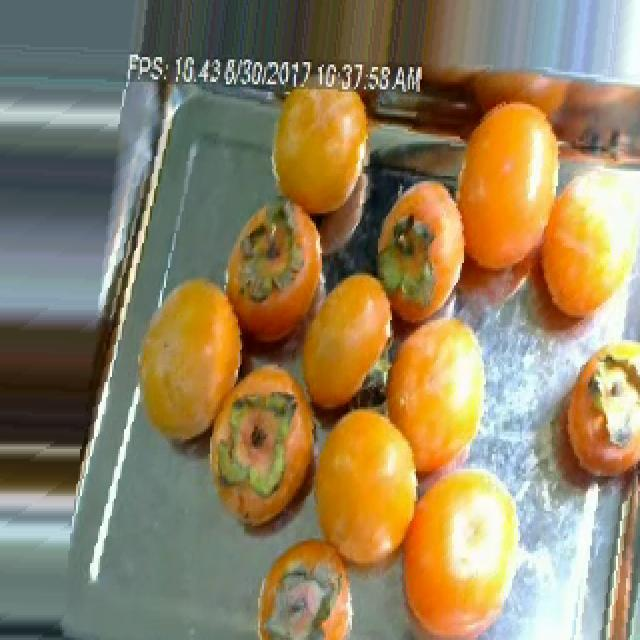Fruit: (364, 287, 512, 498), (126, 260, 258, 472), (272, 253, 406, 444), (196, 355, 324, 521), (256, 70, 378, 238), (366, 161, 476, 340), (212, 194, 336, 322), (244, 526, 354, 640), (576, 320, 640, 456), (0, 605, 102, 640)
